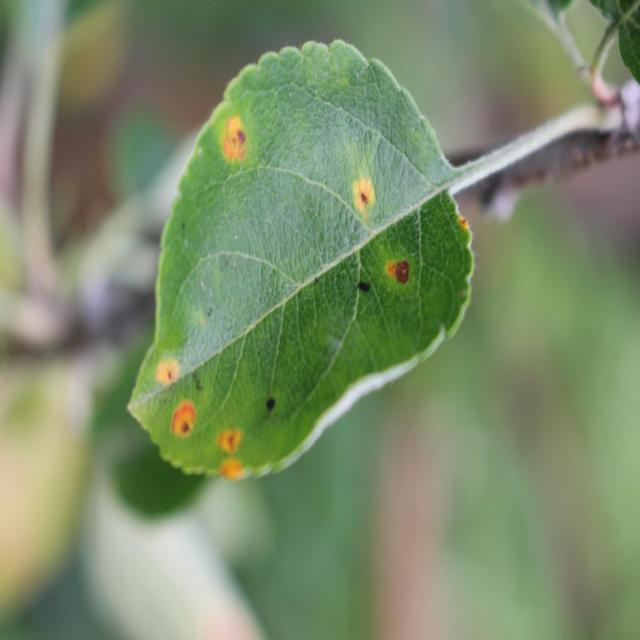Rust: (207, 105, 256, 175), (377, 250, 427, 300), (165, 390, 203, 445), (210, 454, 253, 499), (351, 172, 379, 224), (211, 421, 250, 456), (151, 357, 189, 390), (456, 193, 473, 245)
